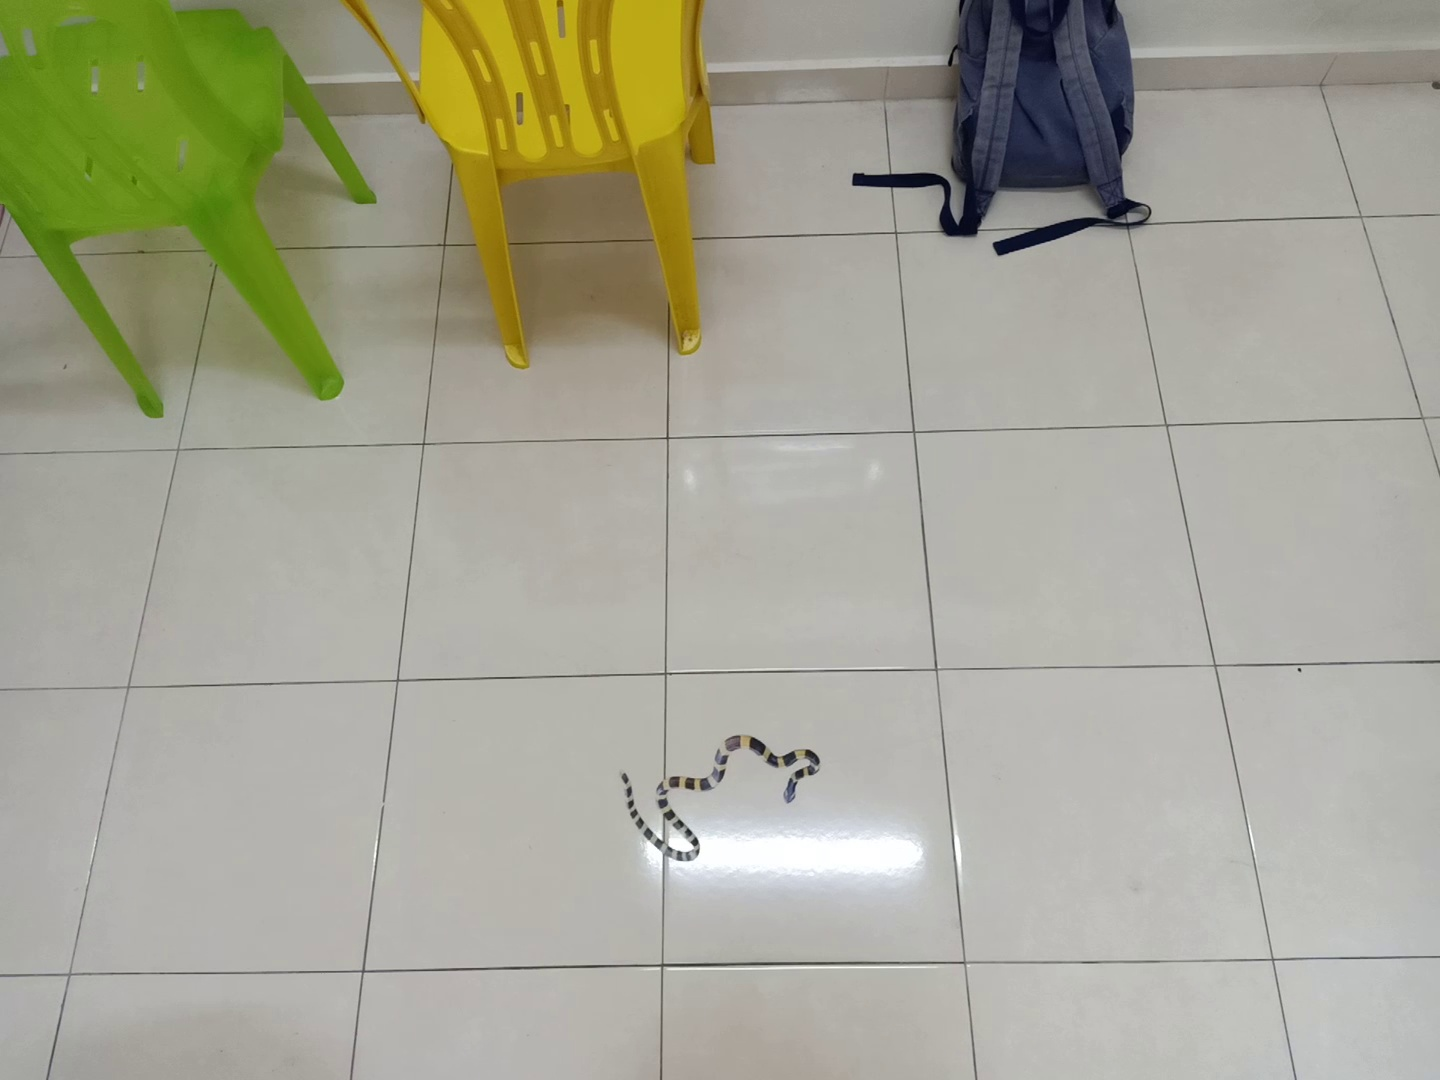snake: (617, 729, 827, 864)
